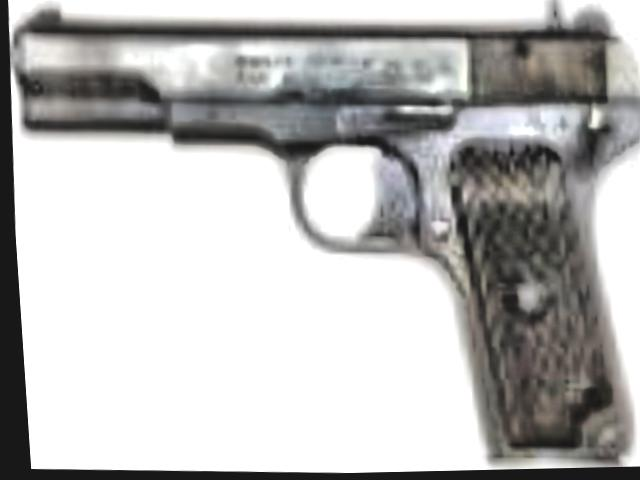pistol: (0, 0, 640, 466)
